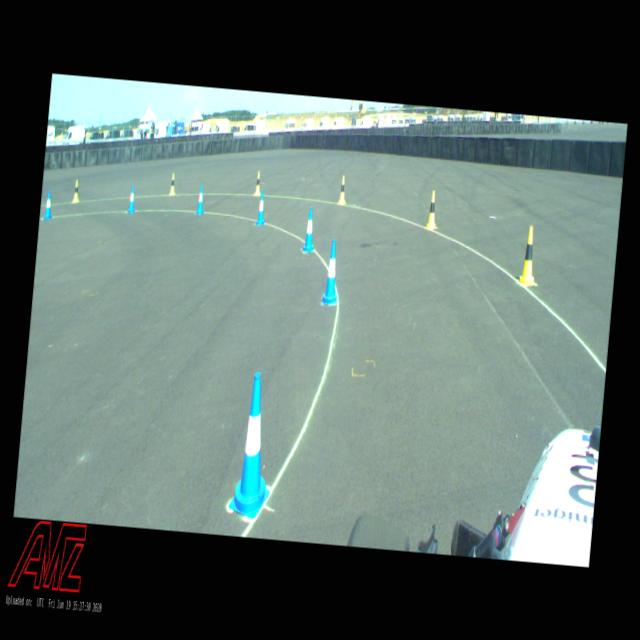blue_cone: (228, 370, 280, 519), (321, 239, 342, 305), (302, 205, 318, 252), (256, 190, 266, 225), (43, 190, 53, 220), (196, 184, 206, 214), (127, 184, 137, 213)
yellow_cone: (517, 224, 542, 286), (425, 190, 440, 230), (338, 174, 348, 204), (253, 170, 262, 196), (72, 180, 80, 202), (169, 172, 176, 195)
